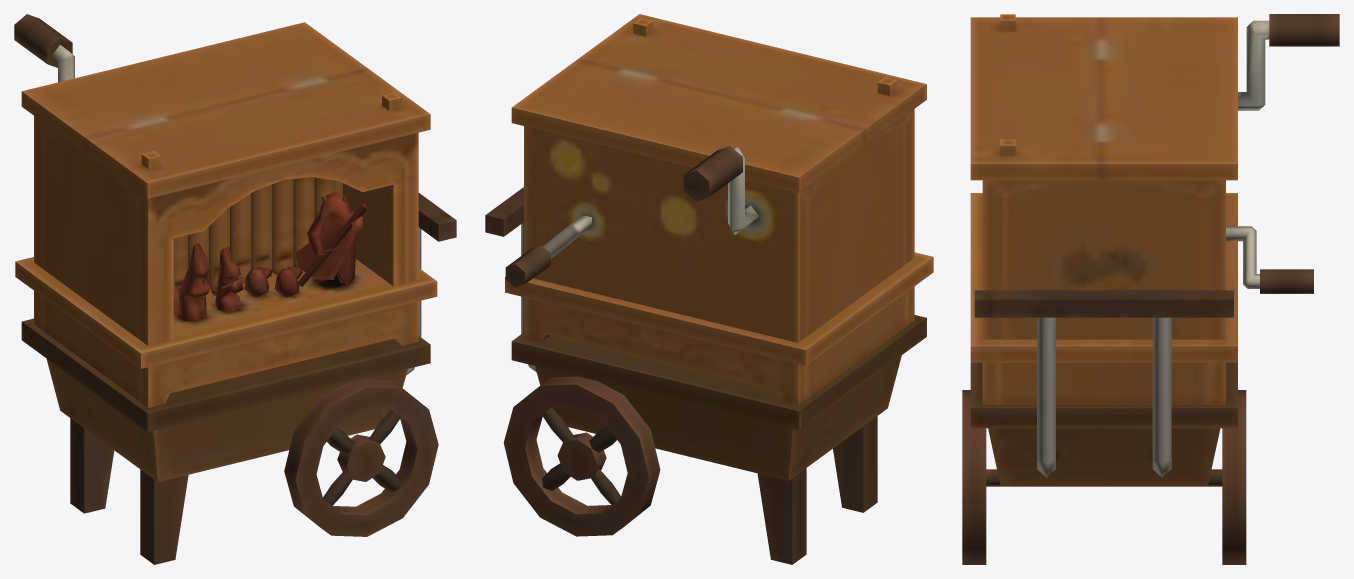
3 renders of one model, left to right at view 1: azimuth 30°, elevation 25°; view 2: azimuth 150°, elevation 25°; view 3: azimuth 270°, elevation 25°, orthographic. The views are drawn at different scales.
Bounding box in the file's own units: 9.75 × 12.71 × 9.46.
1 material, 1 textured.
